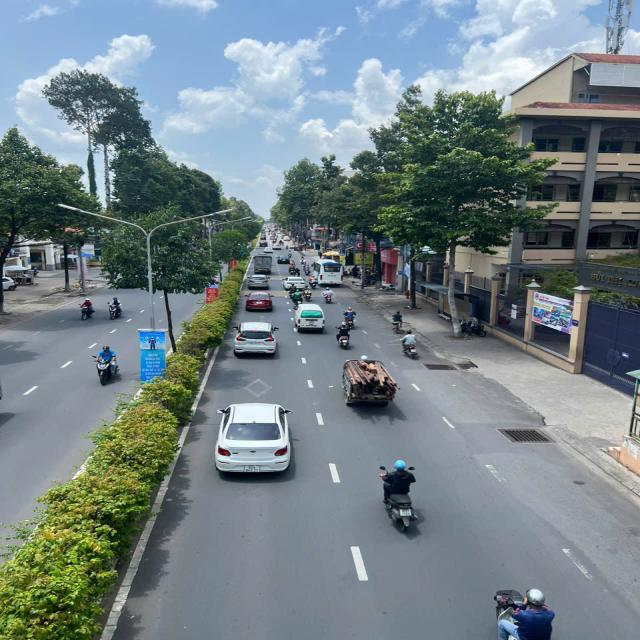car: (209, 401, 294, 475), (230, 321, 280, 358), (293, 303, 328, 334), (242, 291, 275, 313), (244, 272, 272, 291), (282, 275, 308, 291), (278, 254, 292, 268), (263, 244, 274, 254), (258, 238, 269, 248), (272, 242, 284, 251)
motobyte: (491, 583, 558, 640), (376, 459, 423, 536), (91, 345, 122, 386), (399, 329, 420, 360), (77, 295, 96, 324), (106, 295, 125, 322), (337, 322, 352, 351), (342, 305, 358, 332), (390, 308, 404, 335), (288, 288, 306, 308), (284, 281, 301, 299), (323, 286, 335, 306), (302, 261, 313, 277), (309, 274, 319, 290), (288, 259, 298, 275), (300, 255, 308, 266)
